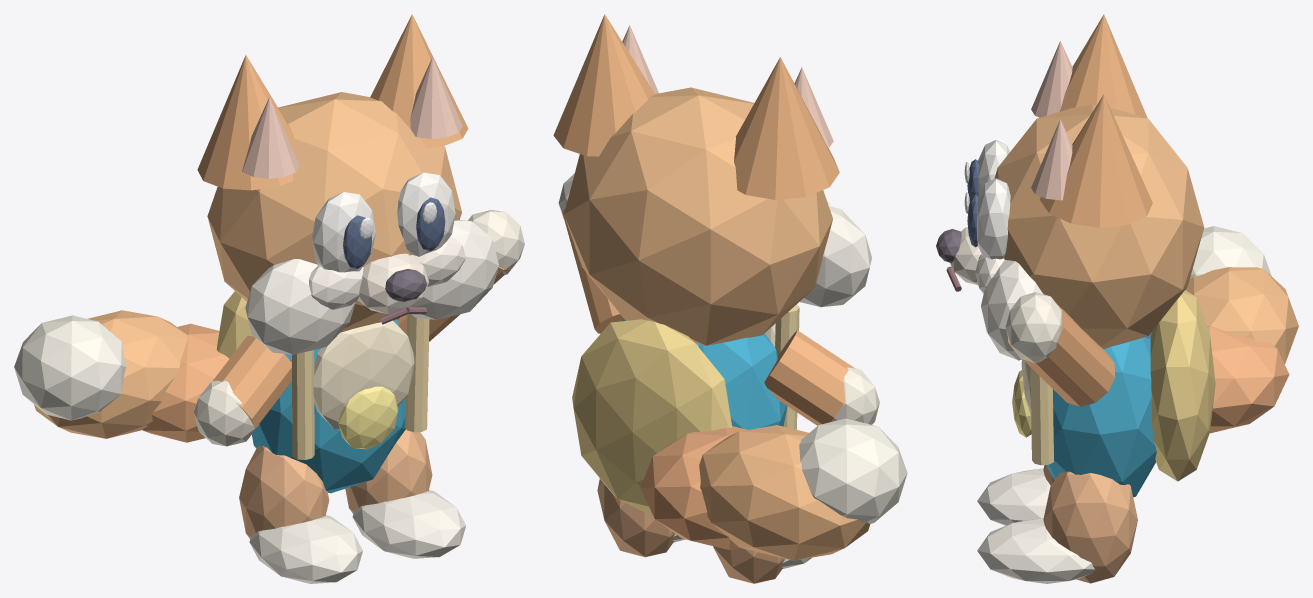
The model's file is fox-guide-mobile.glb.
The picture shows the model from 3 angles, left to right: view 1: azimuth 30°, elevation 25°; view 2: azimuth 150°, elevation 25°; view 3: azimuth 270°, elevation 25°; orthographic projection. The views are drawn at different scales.
Parts seen in each view (by area): view 1: 011_fox_head, 035_tail_tip, 034_tail_mid, 005_bib, 012_cheek, 004_outfit, 000_leg, 013_pointed_ear, 001_boot, 003_boot, 033_tail_base, 019_cheek (+19 smaller); view 2: 011_fox_head, 030_backpack, 034_tail_mid, 013_pointed_ear, 035_tail_tip, 020_pointed_ear, 033_tail_base, 007_arms, 004_outfit, 012_cheek, 002_leg, 000_leg (+5 smaller); view 3: 011_fox_head, 004_outfit, 030_backpack, 020_pointed_ear, 002_leg, 034_tail_mid, 033_tail_base, 003_boot, 009_arms, 013_pointed_ear, 010_paw, 001_boot (+11 smaller).
Part boxes in pixels (left/top/right/bottom): 011_fox_head: left=207, top=92, right=461, bottom=332; 035_tail_tip: left=14, top=315, right=126, bottom=420; 034_tail_mid: left=34, top=310, right=187, bottom=438; 005_bib: left=313, top=320, right=414, bottom=429; 012_cheek: left=245, top=259, right=355, bottom=354; 004_outfit: left=252, top=319, right=406, bottom=493; 000_leg: left=239, top=446, right=329, bottom=538; 013_pointed_ear: left=197, top=55, right=294, bottom=190; 001_boot: left=249, top=515, right=362, bottom=583; 003_boot: left=352, top=490, right=465, bottom=558; 033_tail_base: left=142, top=323, right=229, bottom=442; 019_cheek: left=412, top=220, right=498, bottom=319; 011_fox_head: left=564, top=87, right=832, bottom=345; 030_backpack: left=572, top=319, right=732, bottom=516; 034_tail_mid: left=699, top=425, right=870, bottom=560; 013_pointed_ear: left=734, top=57, right=839, bottom=199; 035_tail_tip: left=799, top=418, right=907, bottom=523; 020_pointed_ear: left=553, top=14, right=655, bottom=156; 033_tail_base: left=640, top=426, right=747, bottom=549; 007_arms: left=764, top=330, right=854, bottom=425; 004_outfit: left=622, top=319, right=787, bottom=429; 012_cheek: left=799, top=206, right=871, bottom=307; 002_leg: left=597, top=478, right=674, bottom=557; 000_leg: left=713, top=546, right=784, bottom=583; 011_fox_head: left=994, top=104, right=1204, bottom=349; 004_outfit: left=1046, top=337, right=1156, bottom=497; 030_backpack: left=1150, top=290, right=1215, bottom=481; 020_pointed_ear: left=1040, top=94, right=1152, bottom=227; 002_leg: left=1043, top=471, right=1137, bottom=583; 034_tail_mid: left=1185, top=267, right=1298, bottom=363; 033_tail_base: left=1207, top=326, right=1289, bottom=433; 003_boot: left=977, top=518, right=1095, bottom=583; 009_arms: left=1008, top=302, right=1115, bottom=406; 013_pointed_ear: left=1059, top=14, right=1147, bottom=118; 010_paw: left=1005, top=292, right=1062, bottom=363; 001_boot: left=977, top=468, right=1050, bottom=525.
Bounding box in the file's own units: 2.46 × 2.94 × 1.92.
